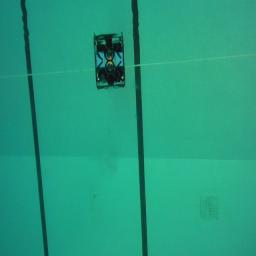front: (95, 61, 125, 89)
